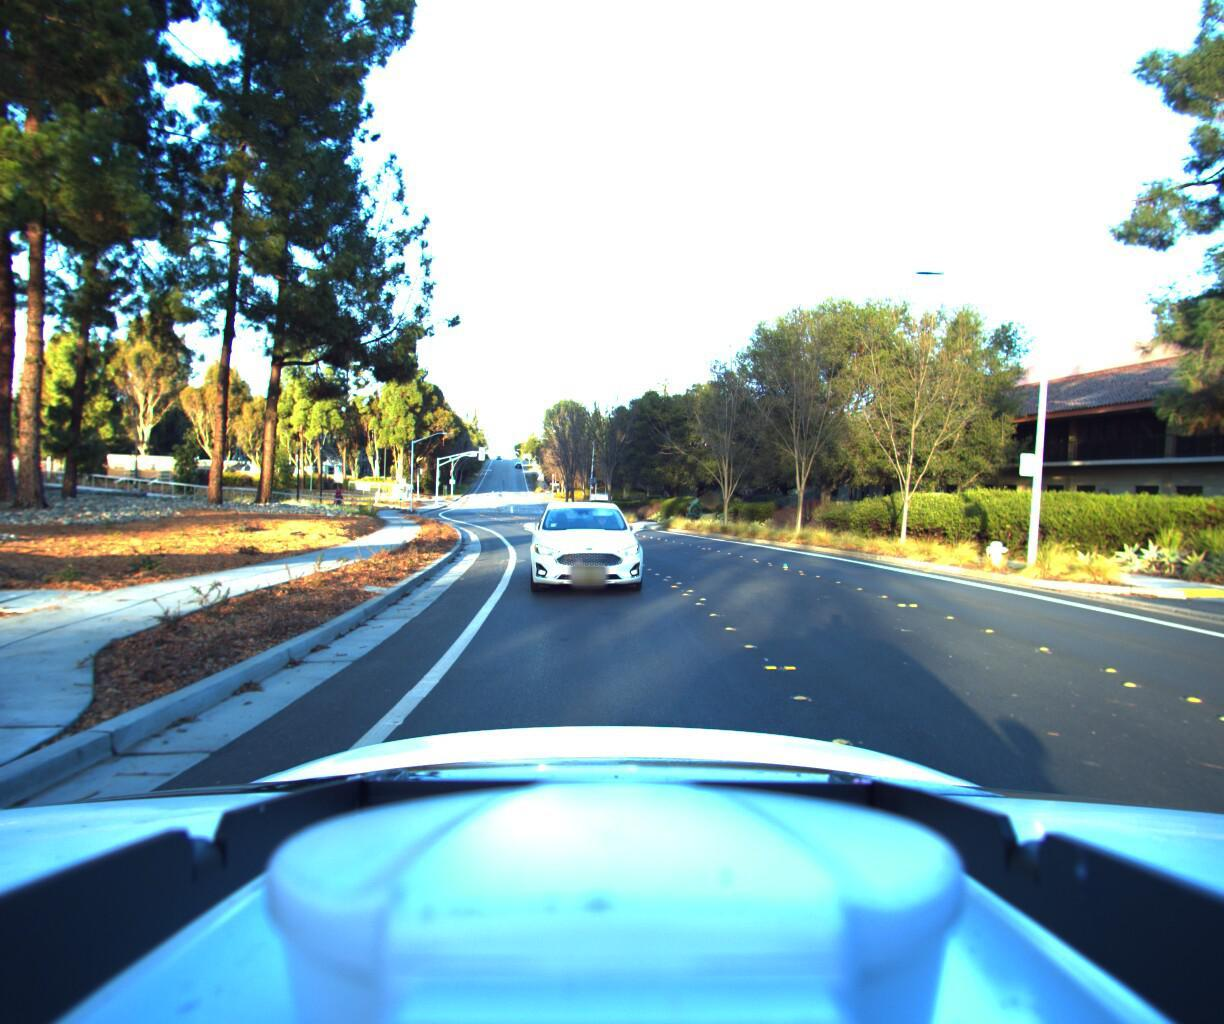car: (516, 489, 660, 615)
